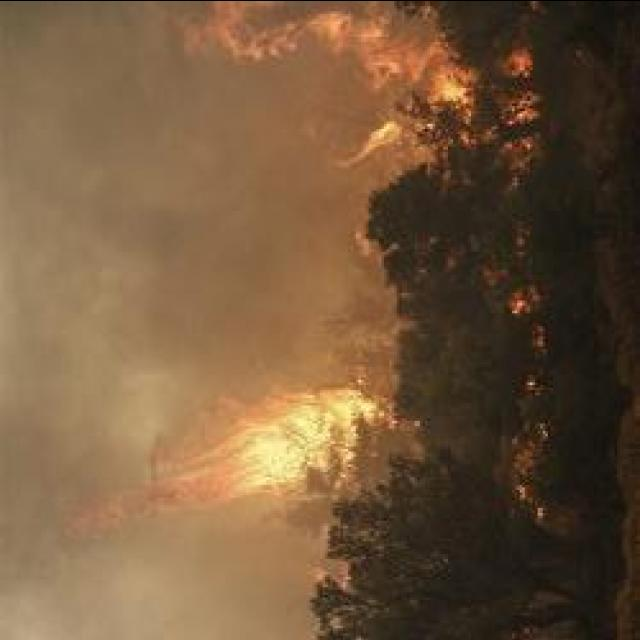fire: (238, 402, 368, 488), (209, 2, 307, 62)
smoke: (2, 1, 163, 183), (94, 200, 208, 380)
